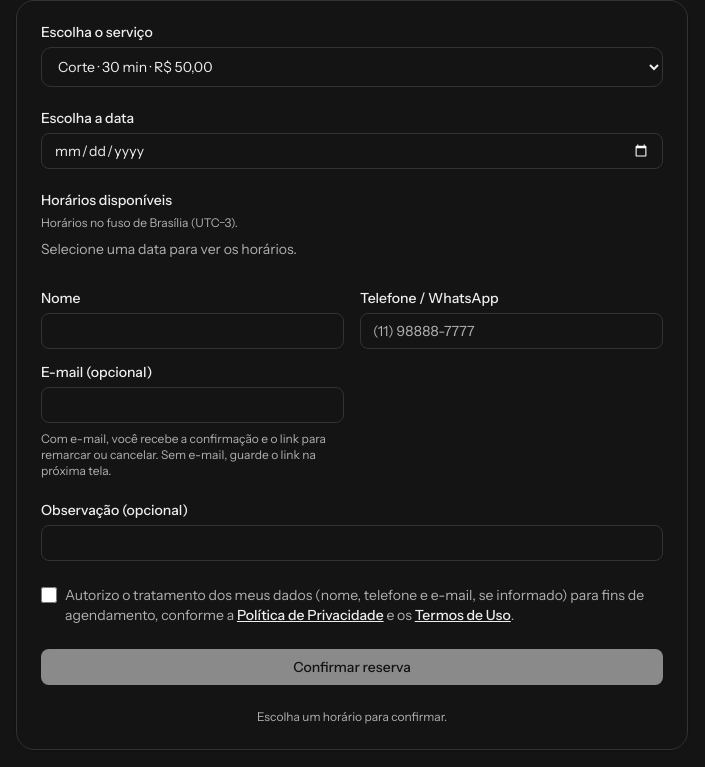
Test: BookingWidget › explains an invalid date instead of blaming the business
Type "2026-10-20" into the date field labelled "Escolha a data". click: (352, 151)
box: [41,133,663,169]
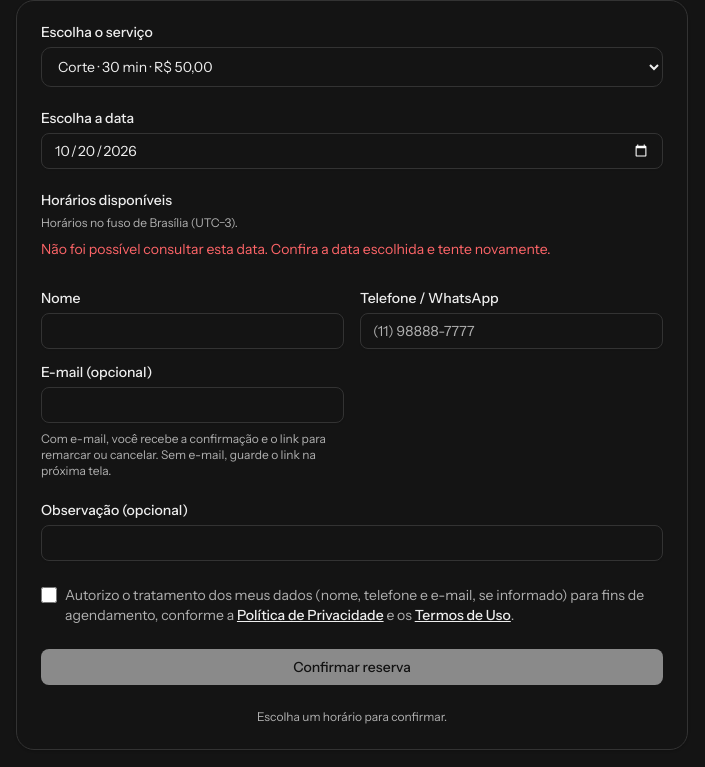
Expected: the text "Não foi possível consultar esta data. Confira a data escolhida e tente novamente." is shown, [41,240,551,258]
